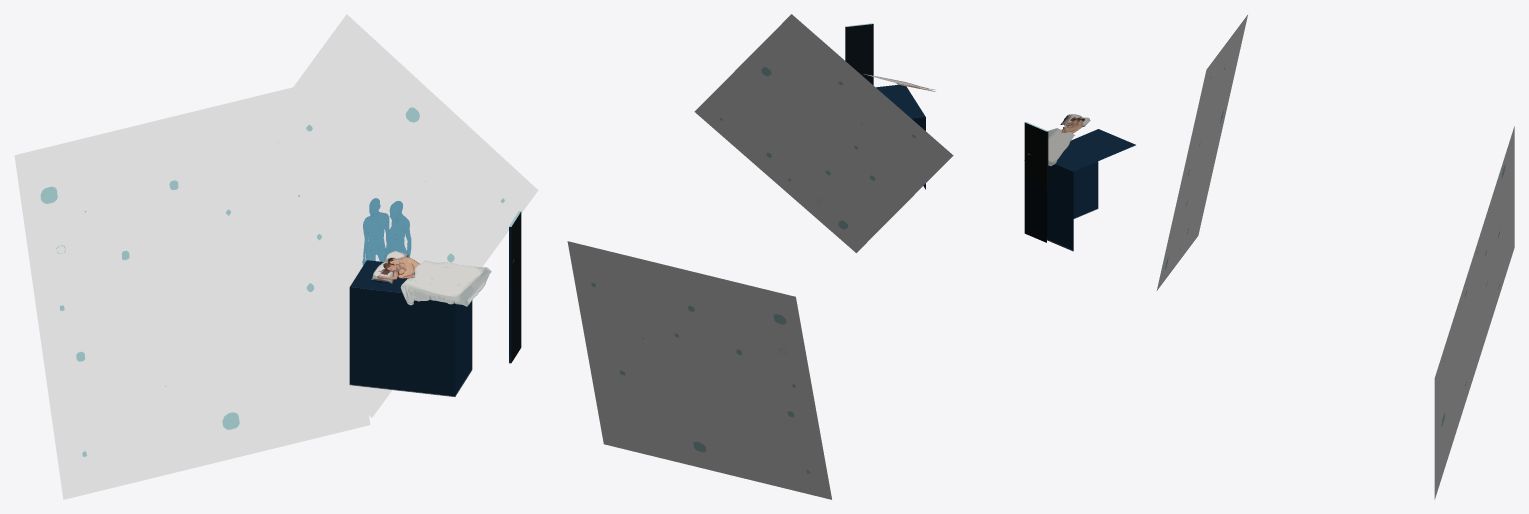
Rendered from night.dae.
3 renders of one model, left to right at view 1: azimuth 30°, elevation 25°; view 2: azimuth 150°, elevation 25°; view 3: azimuth 270°, elevation 25°, orthographic. The views are drawn at different scales.
Visible parts, largest first — view 1: stars, stars.1, Closet, bed, ghosts, Door, Door.1; view 2: stars, stars.1, Door, Closet; view 3: stars, stars.1, Closet, Door, Door.1, bed.
Boxes of the visible parts, x1,y1,x2,y2 form: stars: (14,87,370,499); stars.1: (180,14,538,417); Closet: (349,260,472,396); bed: (371,251,491,306); ghosts: (362,198,411,265); Door: (509,211,521,294); Door.1: (511,280,521,362); stars: (567,241,831,499); stars.1: (694,14,953,252); Door: (845,23,873,75); Closet: (876,84,925,189); stars: (1434,126,1514,499); stars.1: (1156,15,1247,290); Closet: (1047,129,1135,251); Door: (1024,122,1048,187); Door.1: (1024,178,1046,242); bed: (1024,114,1090,166).
Size of the model in its own units: 905 by 1293 by 1341.
Materials: 9 (6 with a texture image).
